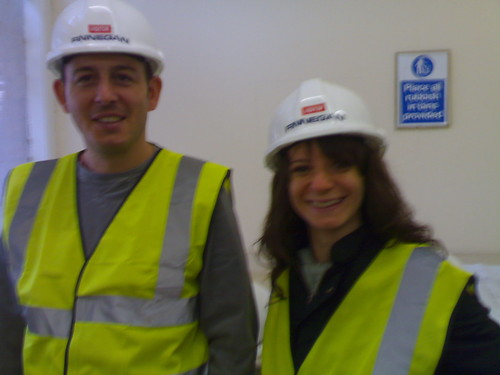person hardhat: (1, 1, 254, 375), (259, 77, 500, 374)
